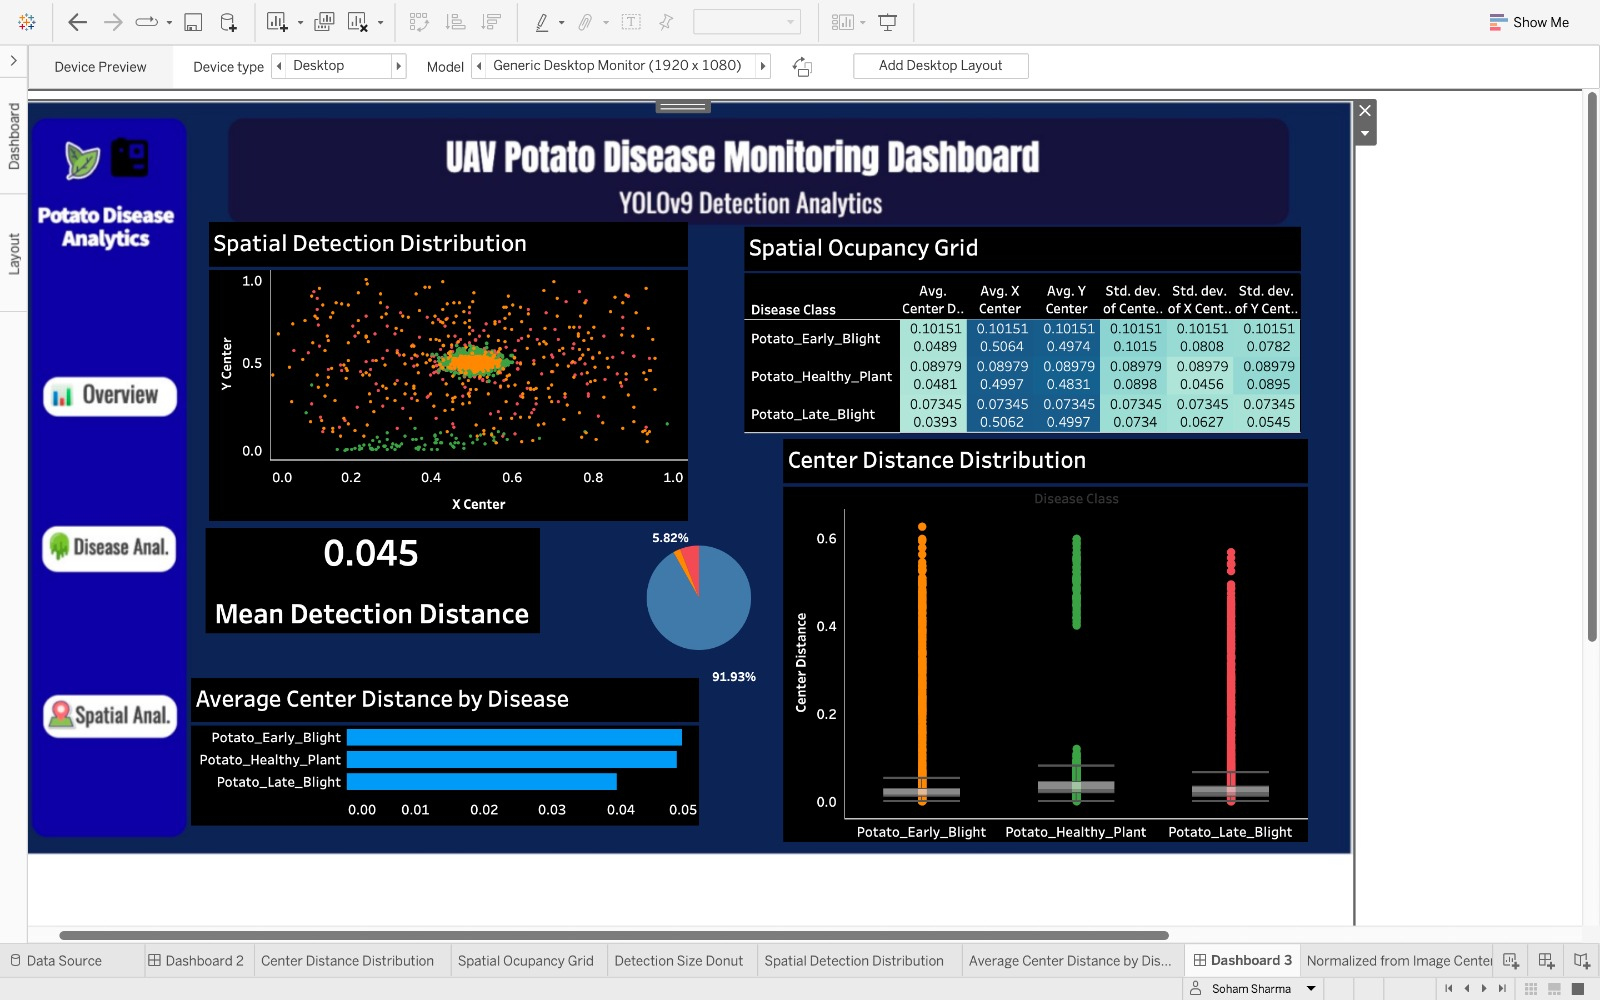

The page's visual inventory and layout, read from the dashboard file:
{"tool":"tableau","page":{"name":"Dashboard 3","canvas":[1920,1080],"ordinal":2},"visuals":[{"type":"image","param":"/Users/sohamsharma/Downloads/iitprojectdashboard.png","box":[6,11,1207,755]},{"type":"worksheet","title":"Spatial Detection Distribution","mark":"Circle","rows":["y_center"],"cols":["x_center"],"box":[183,120,431,269]},{"type":"worksheet","title":"Spatial Ocupancy Grid","mark":"Square","rows":["disease_class"],"box":[665,124,506,190]},{"type":"dashboard-object","box":[27,256,122,39]},{"type":"worksheet","title":"Center Distance Distribution","mark":"Circle","rows":["center_distance"],"cols":["disease_class"],"box":[700,315,472,363]},{"type":"worksheet","title":"Detection Size Donut","mark":"Pie","box":[544,378,163,170]},{"type":"dashboard-object","box":[28,393,119,40]},{"type":"worksheet","title":"Normalized from Image Center","mark":"Text","box":[180,395,302,127]},{"type":"worksheet","title":"Average Center Distance by Disease","mark":"Bar","rows":["disease_class"],"cols":["center_distance"],"box":[167,530,457,159]}]}

Visuals, with their boxes on the page's 1920x1080 design canvas (x1, y1, x2, y2). These are canvas units, not pixel positions in the 1600x1000 screenshot, which may show the page scaled, cropped or inside an application window:
image: rect(6, 11, 1213, 766)
"Spatial Detection Distribution" worksheet (Circle marks): rect(183, 120, 614, 389)
"Spatial Ocupancy Grid" worksheet (Square marks): rect(665, 124, 1171, 314)
dashboard-object: rect(27, 256, 149, 295)
"Center Distance Distribution" worksheet (Circle marks): rect(700, 315, 1172, 678)
"Detection Size Donut" worksheet (Pie marks): rect(544, 378, 707, 548)
dashboard-object: rect(28, 393, 147, 433)
"Normalized from Image Center" worksheet (Text marks): rect(180, 395, 482, 522)
"Average Center Distance by Disease" worksheet (Bar marks): rect(167, 530, 624, 689)
